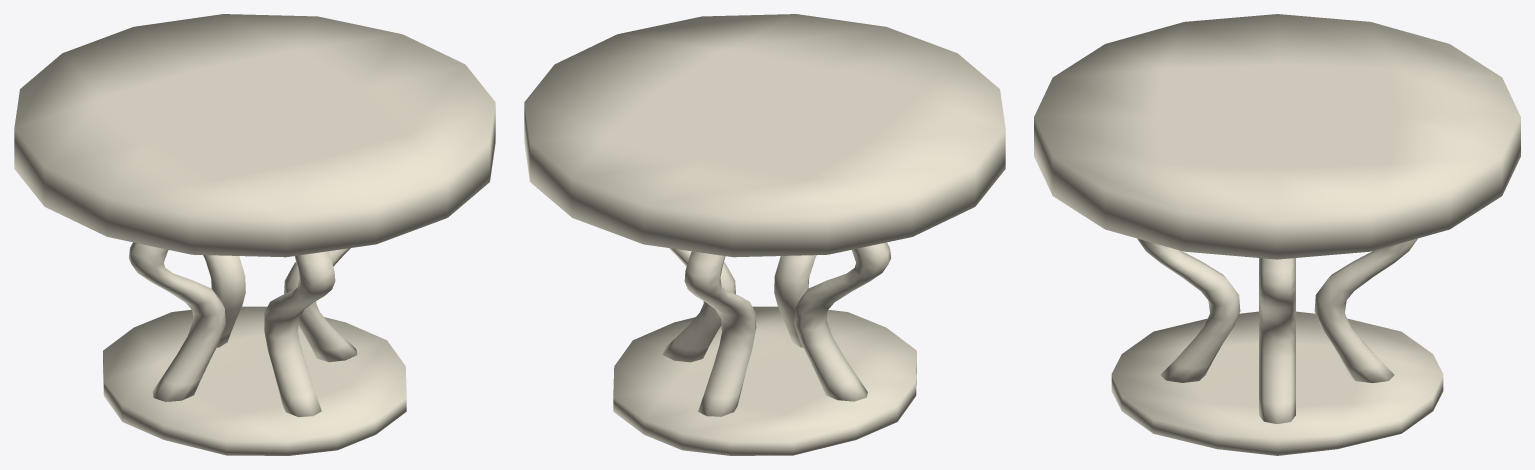
Rendered from Mesa.fbx.
The picture shows the model from 3 angles, left to right: view 1: azimuth 30°, elevation 25°; view 2: azimuth 150°, elevation 25°; view 3: azimuth 270°, elevation 25°; orthographic projection.
Visible parts, largest first — view 1: Cube.026, Cube.032, Cube.031; view 2: Cube.026, Cube.032, Cube.031; view 3: Cube.026, Cube.032, Cube.031.
Boxes of the visible parts, box(x1,y1,x2,y2) form: Cube.026: box(14, 14, 495, 257); Cube.032: box(103, 306, 406, 455); Cube.031: box(129, 242, 357, 417); Cube.026: box(524, 14, 1005, 257); Cube.032: box(613, 306, 916, 455); Cube.031: box(662, 242, 890, 416); Cube.026: box(1034, 14, 1520, 259); Cube.032: box(1111, 311, 1443, 455); Cube.031: box(1137, 238, 1417, 424).
Bounding box in the file's own units: 137 × 85.33 × 137.
